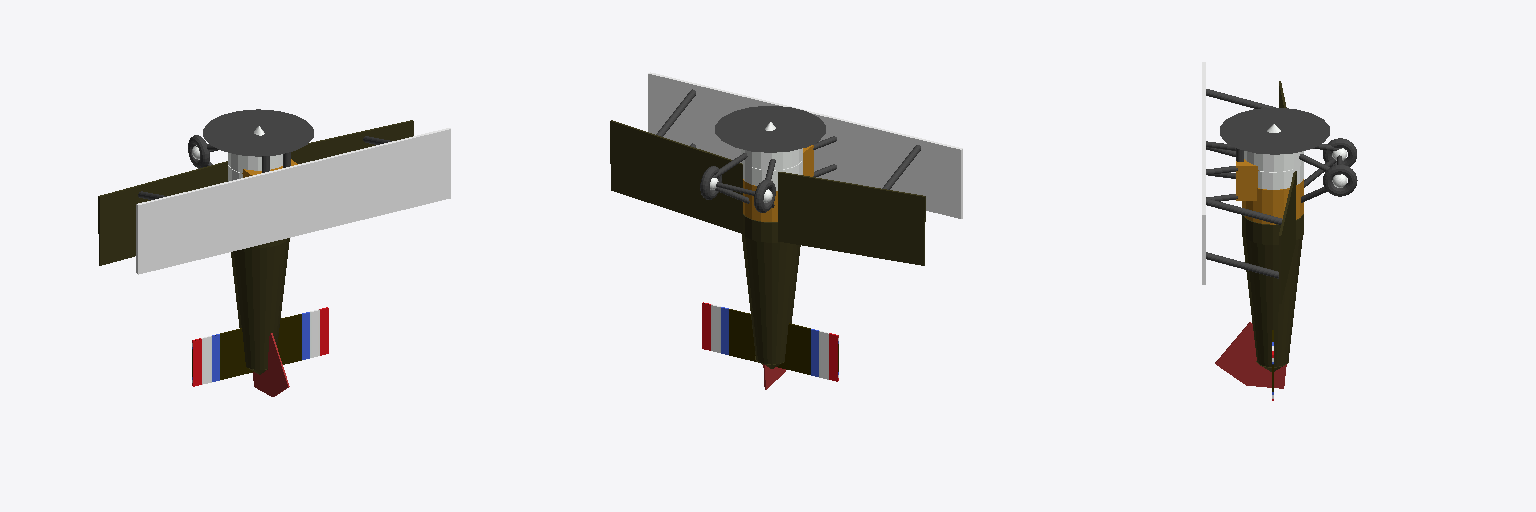
3 renders of one model, left to right at view 1: azimuth 30°, elevation 25°; view 2: azimuth 150°, elevation 25°; view 3: azimuth 270°, elevation 25°, orthographic.
Parts seen in each view (by area): view 1: sopwith_node5, sopwith_node3, sopwith_node2, sopwith_node6, sopwith_node7, sopwith_node1; view 2: sopwith_node3, sopwith_node5, sopwith_node2, sopwith_node6, sopwith_node1, sopwith_node4; view 3: sopwith_node2, sopwith_node3, sopwith_node4, sopwith_node7, sopwith_node1, sopwith_node5.
Part boxes in pixels (x1,y1,x2,y2): sopwith_node5: (136, 128, 450, 274); sopwith_node3: (98, 120, 413, 374); sopwith_node2: (138, 109, 391, 199); sopwith_node6: (192, 307, 328, 386); sopwith_node7: (253, 333, 289, 396); sopwith_node1: (192, 126, 282, 181); sopwith_node3: (610, 120, 925, 368); sopwith_node5: (648, 72, 962, 218); sopwith_node2: (656, 89, 920, 212); sopwith_node6: (702, 302, 838, 381); sopwith_node1: (710, 122, 802, 202); sopwith_node4: (743, 145, 813, 221); sopwith_node2: (1206, 89, 1357, 278); sopwith_node3: (1242, 81, 1303, 371); sopwith_node4: (1236, 159, 1303, 224); sopwith_node7: (1215, 322, 1286, 388); sopwith_node1: (1244, 124, 1346, 189); sopwith_node5: (1202, 62, 1205, 284).
Size of the model in its own units: 1405 by 1130 by 600.
7 materials, 1 textured.